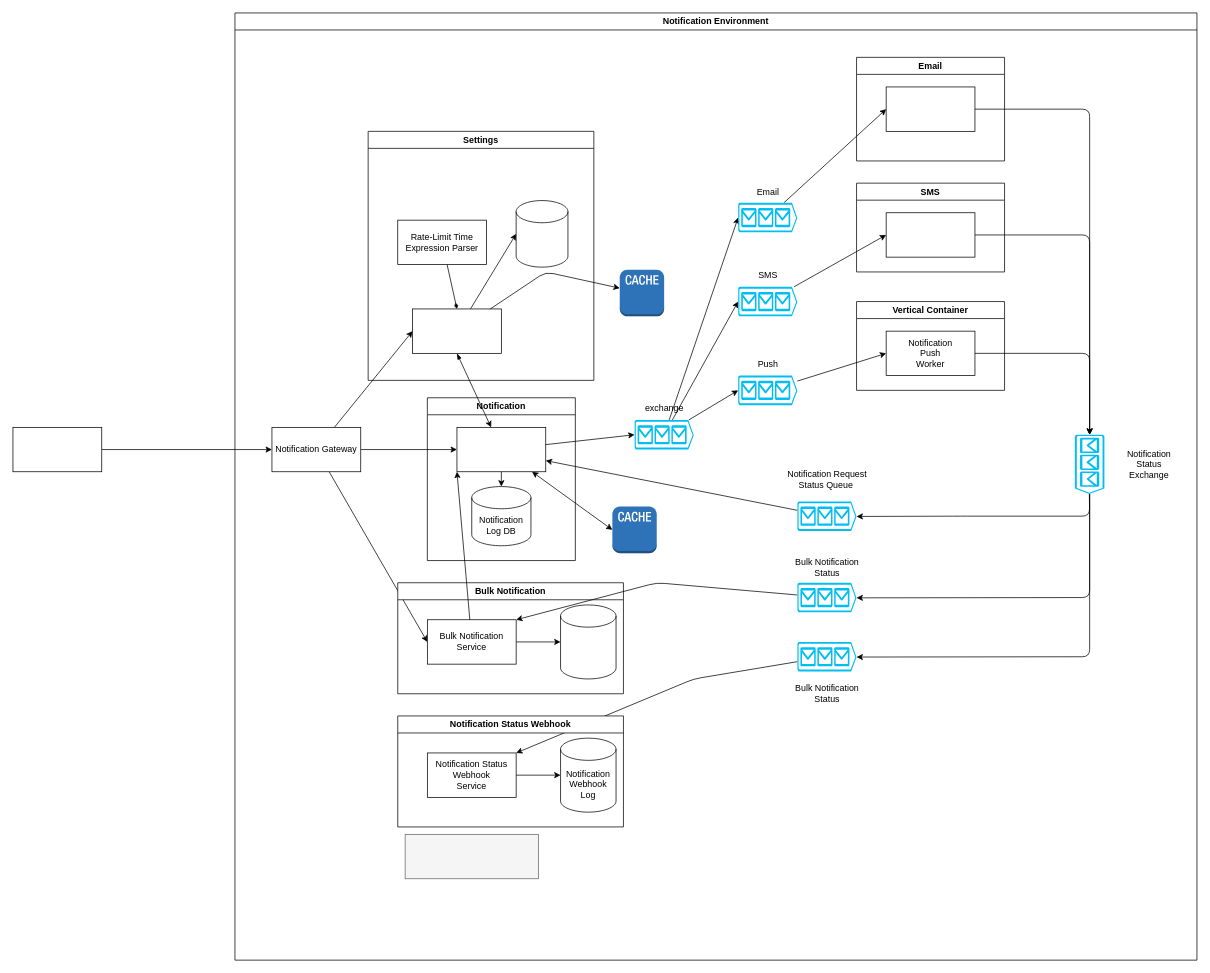
The diagram is 1210 pixels wide and 973 high, and some of its shapes have lost their labels. The shapes that lost their labels are listed below. From the top down, each one's centre as x and y in pixels, then its label:
point 930,108: Notification Email Worker
point 541,233: Rules DB
point 930,234: Notification SMS Worker
point 456,330: Rules Service
point 57,449: Client
point 501,449: Notification Service
point 588,641: Bulk Notification DB
point 471,856: Send webhook request based on the URL sent inside notification request
